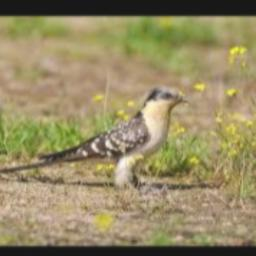Cuckoo: (0, 86, 190, 190)
